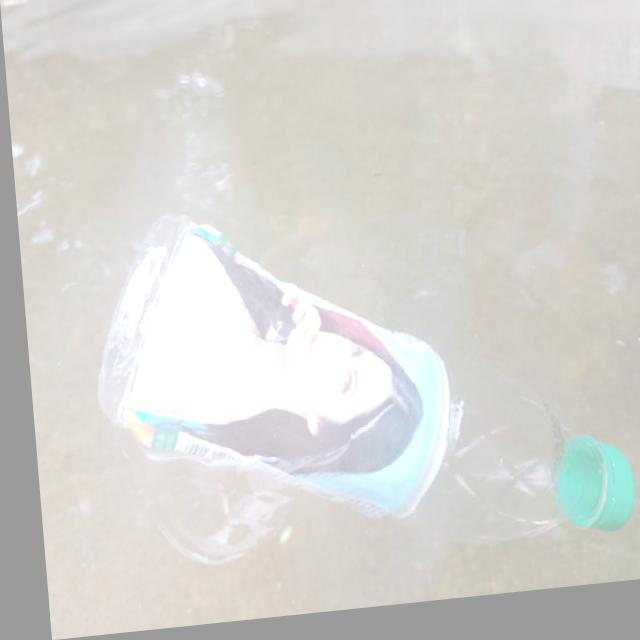waterbottle: (70, 169, 627, 586)
